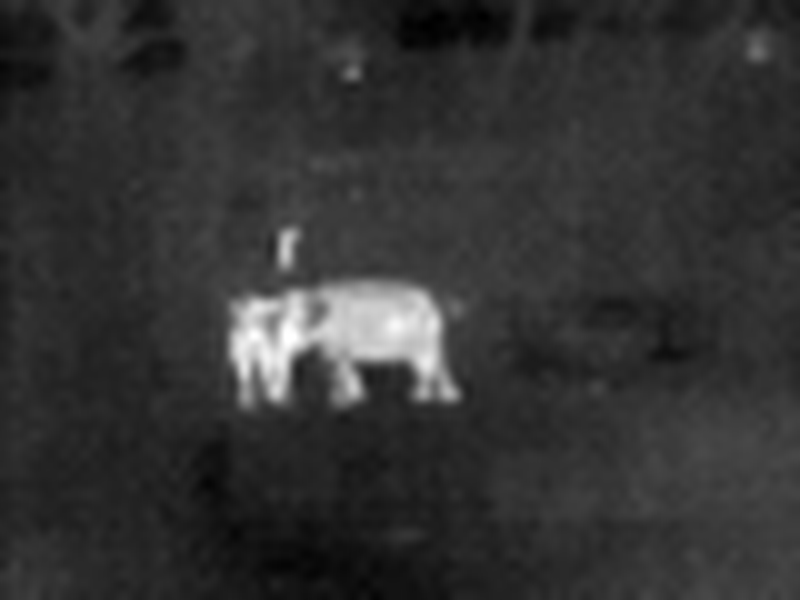elephant: (214, 284, 471, 430)
